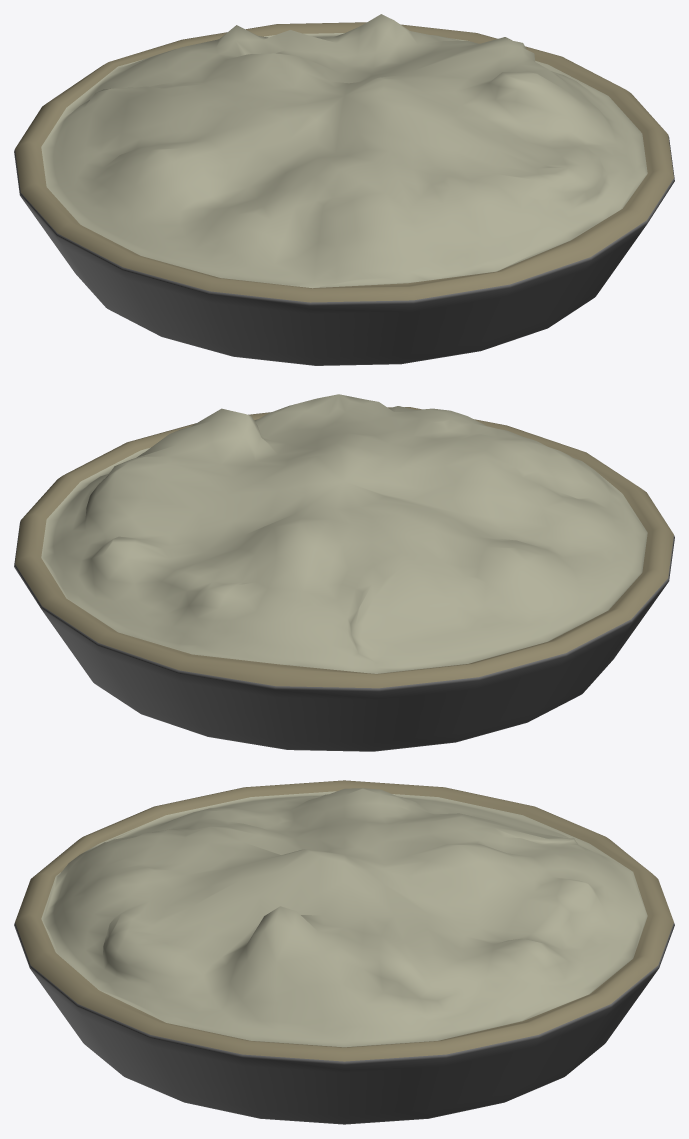
The model's file is Pie.fbx.
3 renders of one model, top to bottom at view 1: azimuth 30°, elevation 25°; view 2: azimuth 150°, elevation 25°; view 3: azimuth 270°, elevation 25°, orthographic.
Parts seen in each view (by area): view 1: pCylinder1; view 2: pCylinder1; view 3: pCylinder1.
Boxes of the visible parts, x1,y1,x2,y2 form: pCylinder1: [14, 14, 674, 365]; pCylinder1: [14, 394, 674, 751]; pCylinder1: [14, 780, 674, 1124].
Size of the model in its own units: 2.63 by 0.7383 by 2.62.
